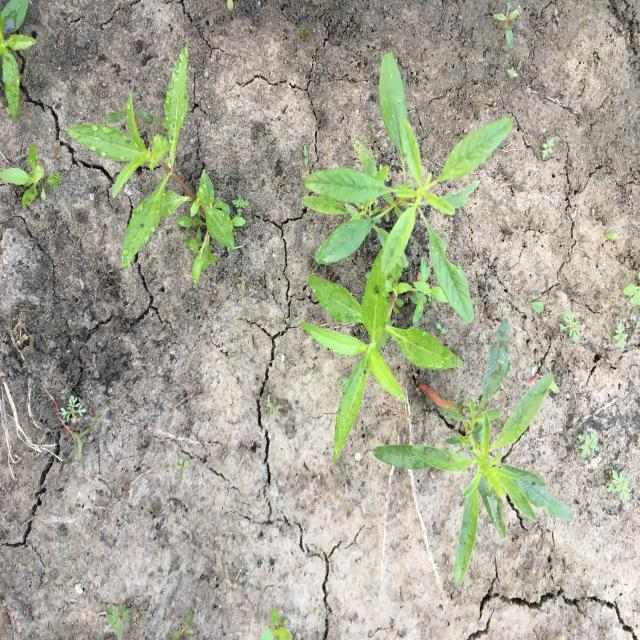Eclipta: (66, 43, 247, 284), (300, 248, 464, 466), (1, 1, 38, 123), (0, 141, 46, 211)
Ragweed: (605, 466, 633, 506), (56, 393, 88, 425)
Waterhemp: (300, 50, 515, 326), (372, 316, 574, 588)
